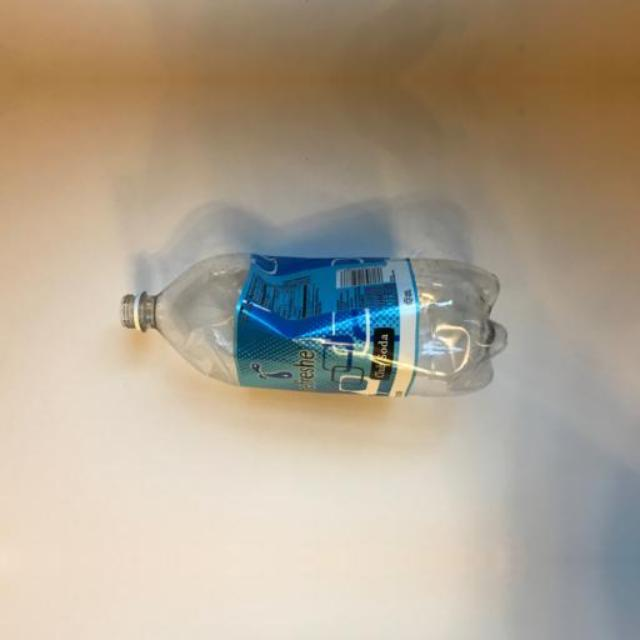Plastic: (105, 242, 551, 420)
